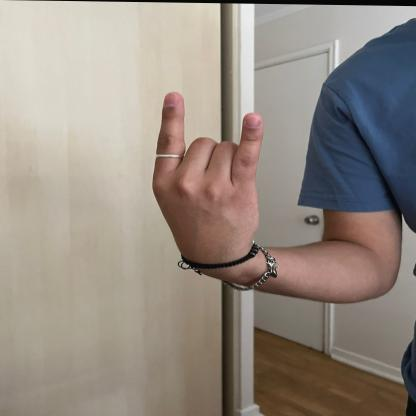U: (149, 85, 268, 254)
